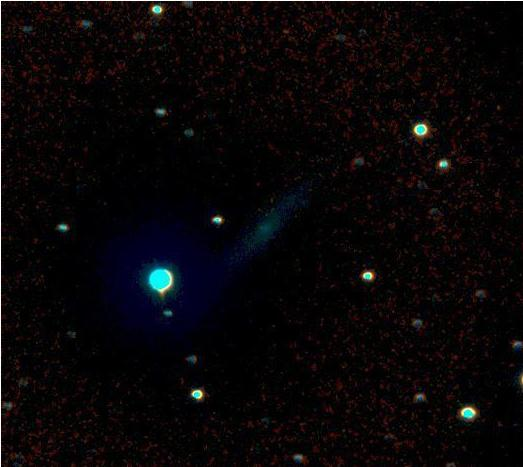star: (293, 190, 323, 220)
